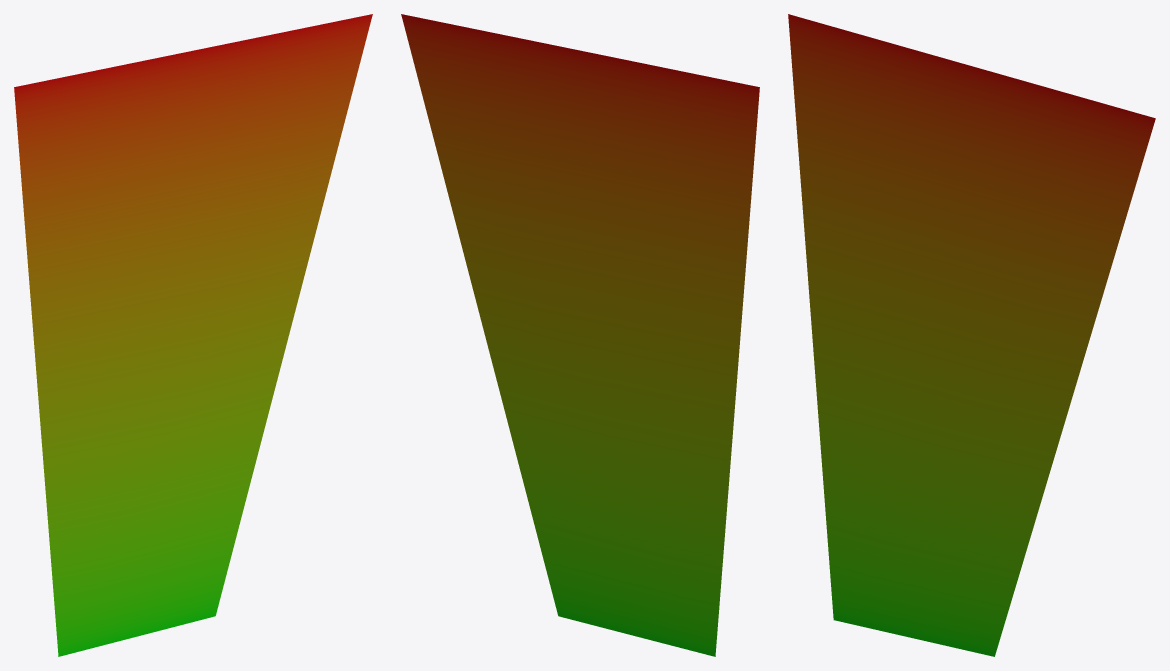
File: Tundra Grass_LOD7_Var14_wk2oaeyqx.fbx
The picture shows the model from 3 angles, left to right: view 1: azimuth 30°, elevation 25°; view 2: azimuth 150°, elevation 25°; view 3: azimuth 330°, elevation 25°; orthographic projection. The views are drawn at different scales.
Visible parts, largest first — view 1: _nsg8_Var14_LOD7; view 2: _nsg8_Var14_LOD7; view 3: _nsg8_Var14_LOD7.
Part boxes in pixels (bbox=[...]): _nsg8_Var14_LOD7: bbox=[14, 14, 372, 656]; _nsg8_Var14_LOD7: bbox=[401, 14, 759, 656]; _nsg8_Var14_LOD7: bbox=[788, 14, 1155, 656].
Size of the model in its own units: 20.99 by 32.45 by 1.41e-06.
